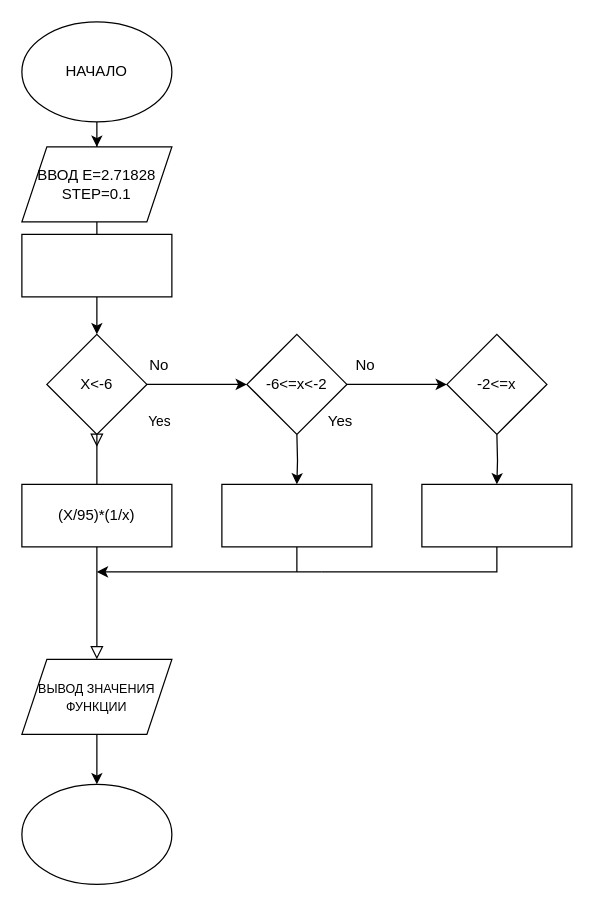
This 594x906 diagram has some shape labels left out. Each missing label, with the centre of its shape:
"cos(x)" goes at [496,515].
"e^x*e^x-cos(2*x)" goes at [296,515].
"X=-8, WHILE X<=0 DO X:=X+STEP" goes at [96,265].
"КОНЕЦ" goes at [96,833].
